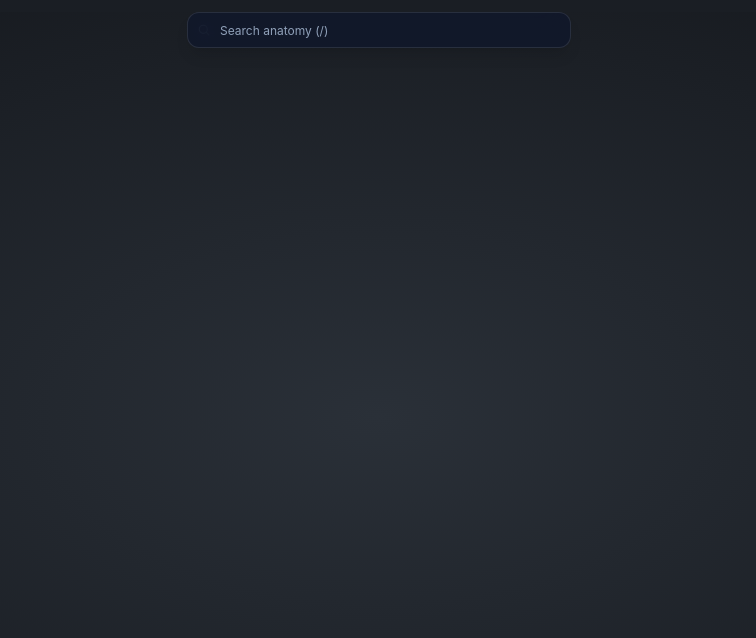
it: SearchBox › shows No matches when query finds nothing
The width and height of the screenshot is (756, 638).
In the dropdown named "Search structures": [379, 30] box [187,12,571,48], type "zzz"
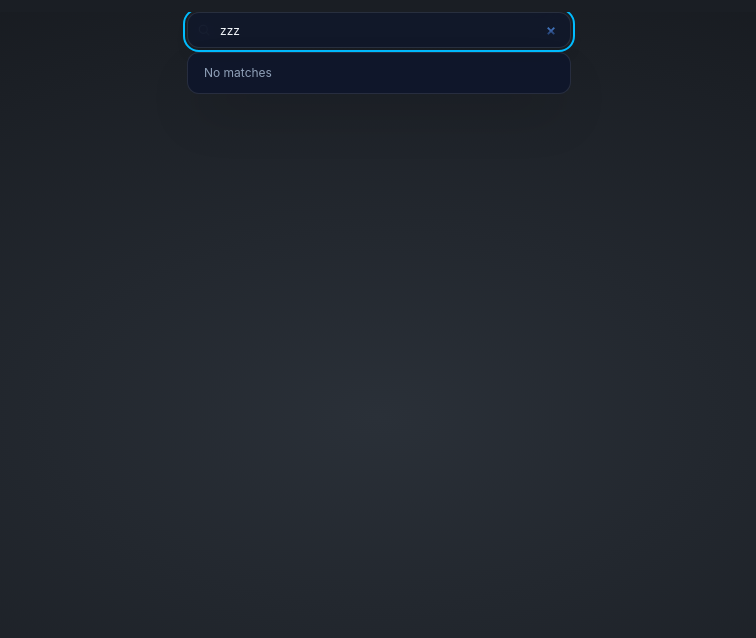
Expected: the option "No matches" is shown, [204,65,272,80]
